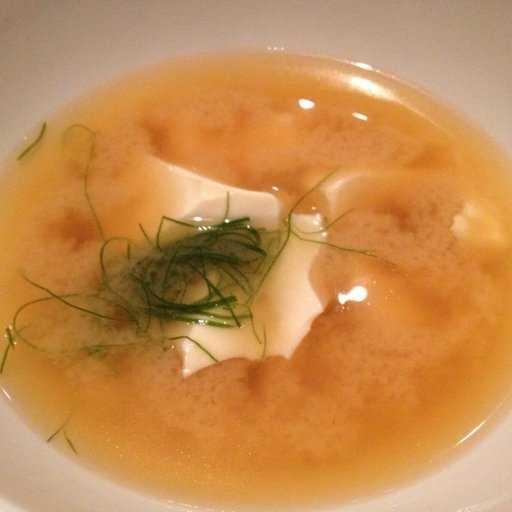soup: (30, 37, 492, 483)
